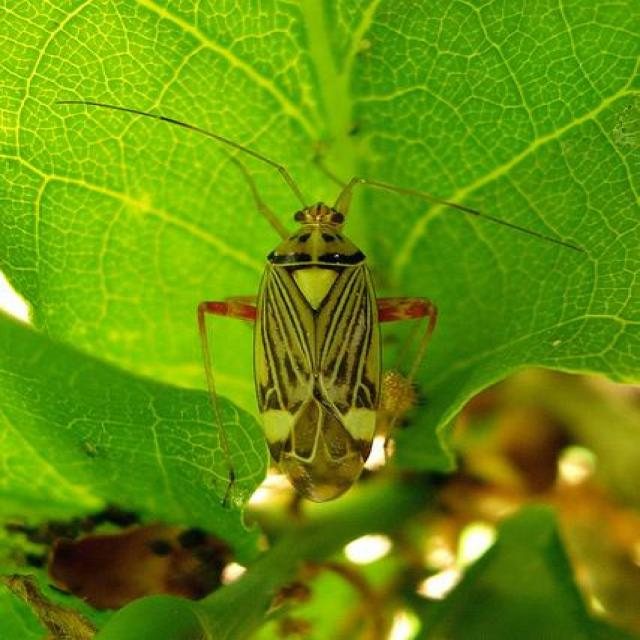Miridae-Adult-: (145, 97, 505, 537)
